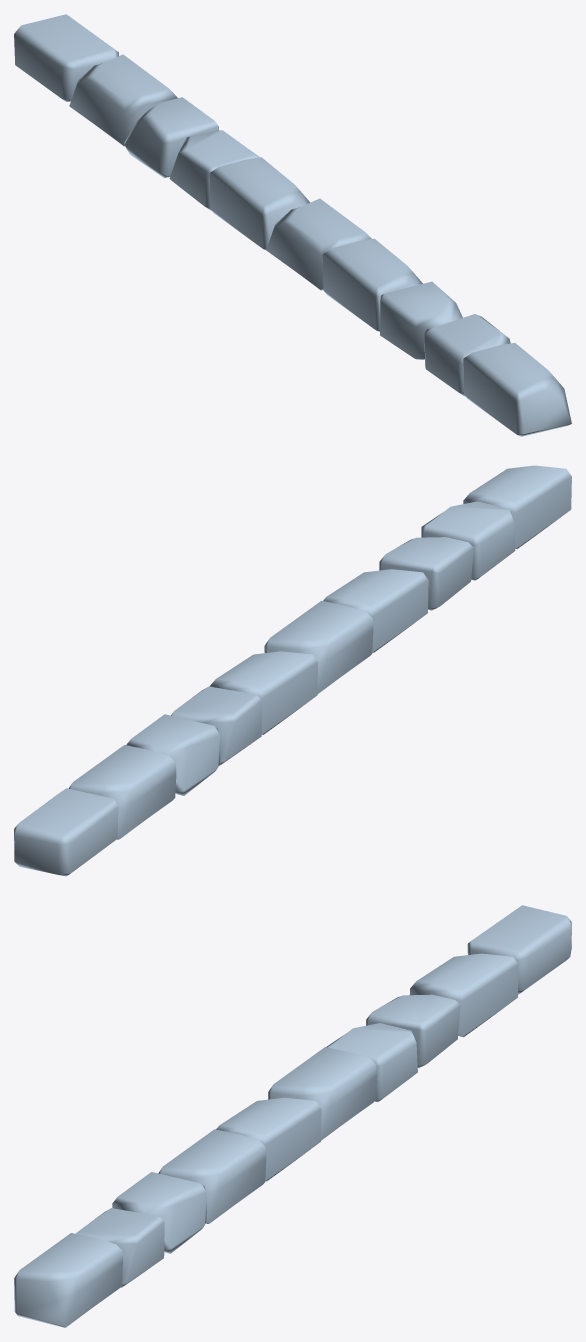
File: Pavement_Lign_02_Lod0.fbx
The picture shows the model from 3 angles, top to bottom: view 1: azimuth 30°, elevation 25°; view 2: azimuth 150°, elevation 25°; view 3: azimuth 330°, elevation 25°; orthographic projection.
Parts seen in each view (by area): view 1: Pavement_Lign_02_Lod0; view 2: Pavement_Lign_02_Lod0; view 3: Pavement_Lign_02_Lod0.
Boxes of the visible parts, bbox=[...] form: Pavement_Lign_02_Lod0: bbox=[14, 14, 571, 436]; Pavement_Lign_02_Lod0: bbox=[14, 465, 571, 876]; Pavement_Lign_02_Lod0: bbox=[14, 905, 571, 1327].
Size of the model in its own units: 20.96 by 16.04 by 303.
